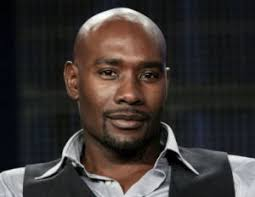person: (61, 7, 171, 153)
